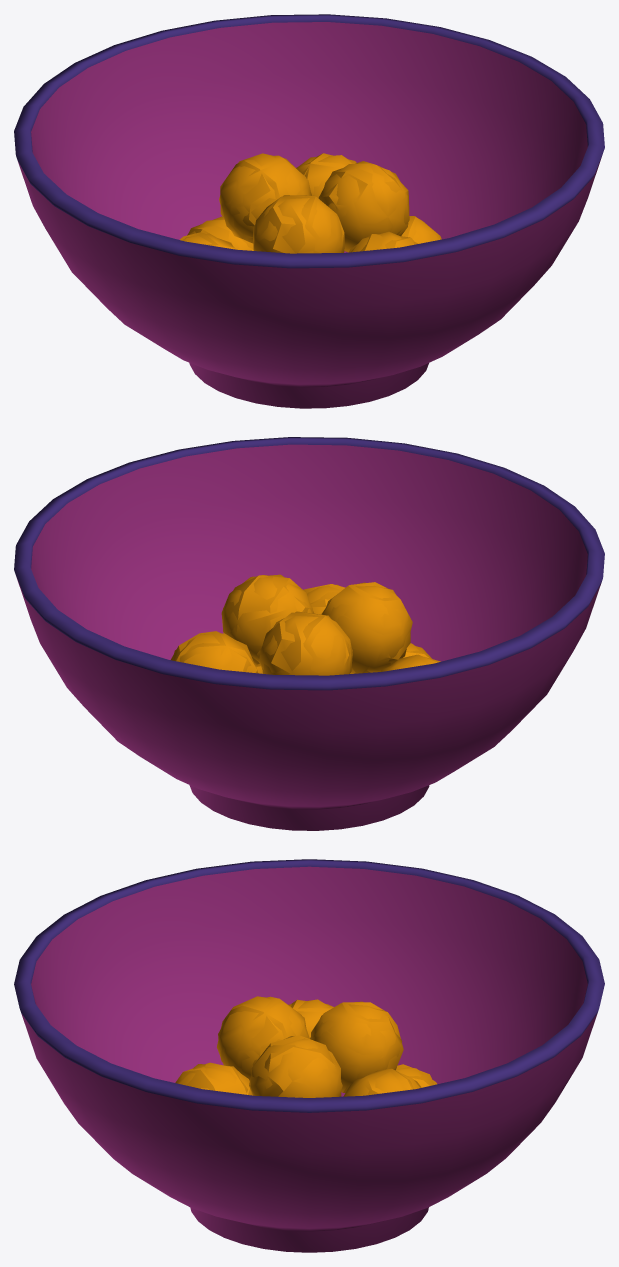
File: cooked_bitterballen_model.fbx
3 renders of one model, top to bottom at view 1: azimuth 30°, elevation 25°; view 2: azimuth 150°, elevation 25°; view 3: azimuth 270°, elevation 25°, orthographic.
Visible parts, largest first — view 1: Mixing_Bowl_CBitterballen, Bitterbal_04, Bitterbal_02, Bitterbal_03; view 2: Mixing_Bowl_CBitterballen, Bitterbal_04, Bitterbal_02, Bitterbal_03; view 3: Mixing_Bowl_CBitterballen, Bitterbal_04, Bitterbal_02, Bitterbal_03.
Boxes of the visible parts, x1=… form: Mixing_Bowl_CBitterballen: x1=14, y1=14, x2=604, y2=408; Bitterbal_04: x1=219, y1=153, x2=409, y2=253; Bitterbal_02: x1=296, y1=153, x2=441, y2=252; Bitterbal_03: x1=180, y1=216, x2=253, y2=250; Mixing_Bowl_CBitterballen: x1=14, y1=437, x2=604, y2=830; Bitterbal_04: x1=221, y1=574, x2=412, y2=675; Bitterbal_02: x1=170, y1=584, x2=345, y2=673; Bitterbal_03: x1=381, y1=643, x2=440, y2=671; Mixing_Bowl_CBitterballen: x1=14, y1=859, x2=604, y2=1252; Bitterbal_04: x1=217, y1=996, x2=403, y2=1097; Bitterbal_02: x1=175, y1=1062, x2=421, y2=1096; Bitterbal_03: x1=288, y1=999, x2=436, y2=1087.
Bounding box in the file's own units: 48.76 × 48.76 × 20.8.
